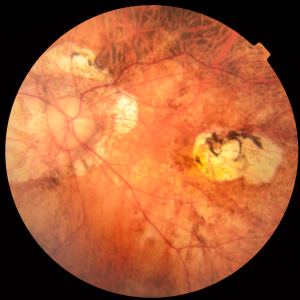retina_disease: (34, 84, 239, 204)
